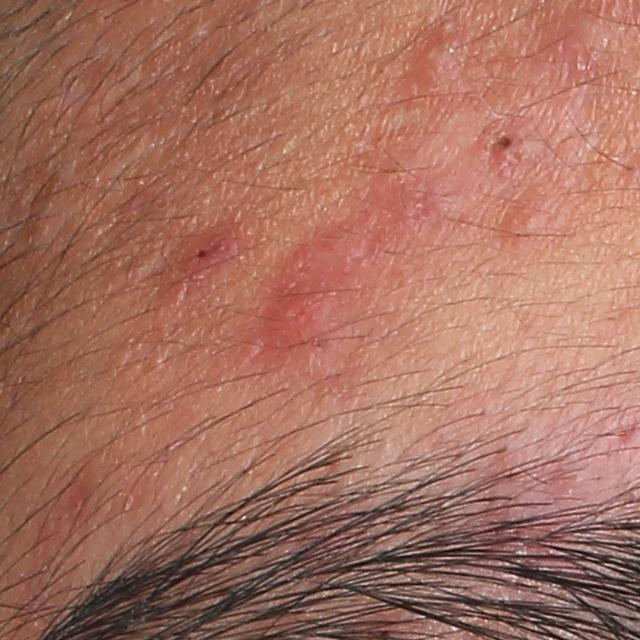comedo: (184, 20, 208, 48)
papule: (403, 9, 476, 100), (466, 111, 547, 170), (261, 284, 342, 341), (171, 217, 242, 278), (553, 8, 617, 65), (274, 236, 334, 292)
